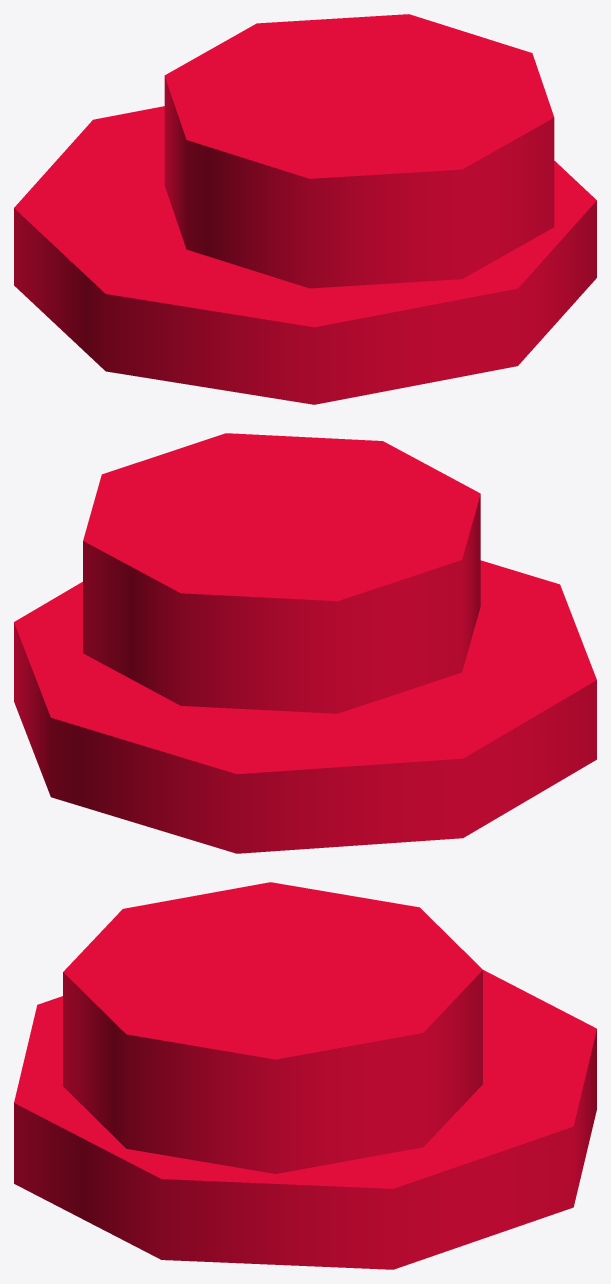
File: CleaningRoom_Weigths.fbx
3 renders of one model, top to bottom at view 1: azimuth 30°, elevation 25°; view 2: azimuth 150°, elevation 25°; view 3: azimuth 270°, elevation 25°, orthographic. The views are drawn at different scales.
Parts seen in each view (by area): view 1: CleaningRoom_Weigths; view 2: CleaningRoom_Weigths; view 3: CleaningRoom_Weigths.
Part boxes in pixels (bbox=[...]): CleaningRoom_Weigths: bbox=[14, 14, 596, 404]; CleaningRoom_Weigths: bbox=[14, 433, 596, 853]; CleaningRoom_Weigths: bbox=[14, 882, 596, 1269].
Size of the model in its own units: 48.52 by 17.94 by 48.52.
